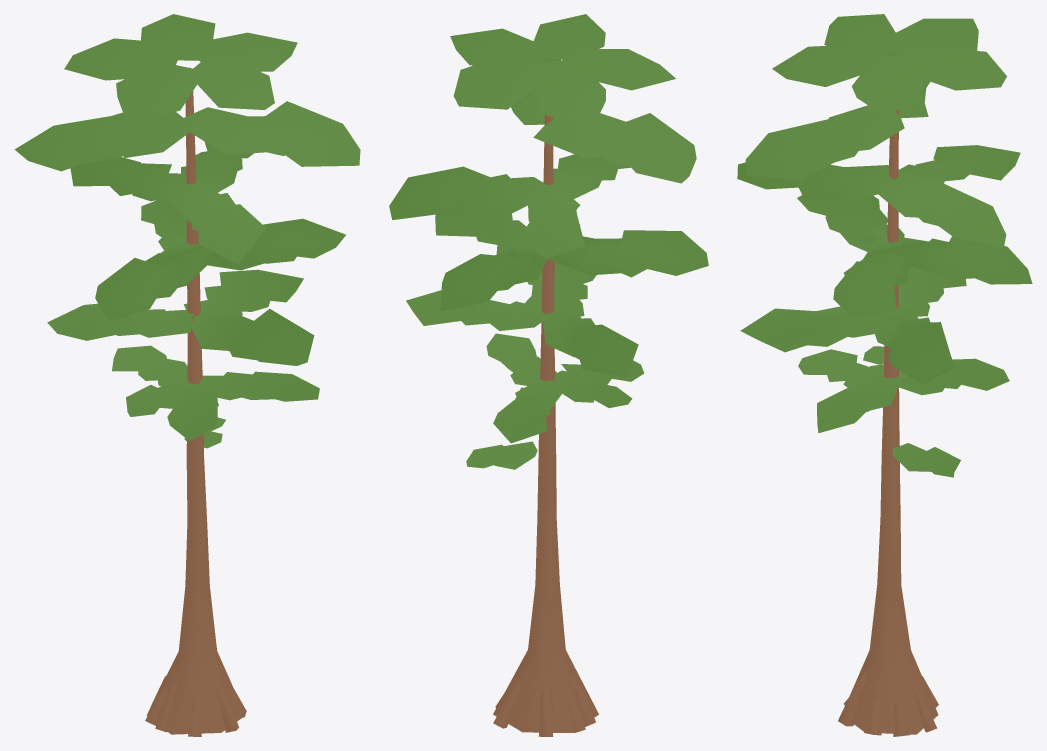
File: Blender_BaldCypress_1_Far.glb
3 views of the same model, side by side, from view 1: azimuth 30°, elevation 25°; view 2: azimuth 150°, elevation 25°; view 3: azimuth 270°, elevation 25° (orthographic).
Parts seen in each view (by area): view 1: Blender_BaldCypress_1_Far; view 2: Blender_BaldCypress_1_Far; view 3: Blender_BaldCypress_1_Far.
Boxes of the visible parts, x1,y1,x2,y2 form: Blender_BaldCypress_1_Far: [14, 14, 360, 736]; Blender_BaldCypress_1_Far: [389, 14, 708, 736]; Blender_BaldCypress_1_Far: [737, 14, 1032, 736].
Size of the model in its own units: 13.65 by 29.78 by 11.84.
